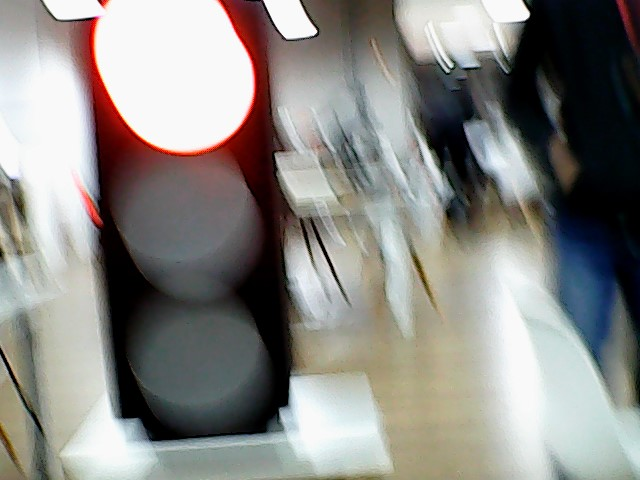vermelho: (71, 1, 296, 444)
